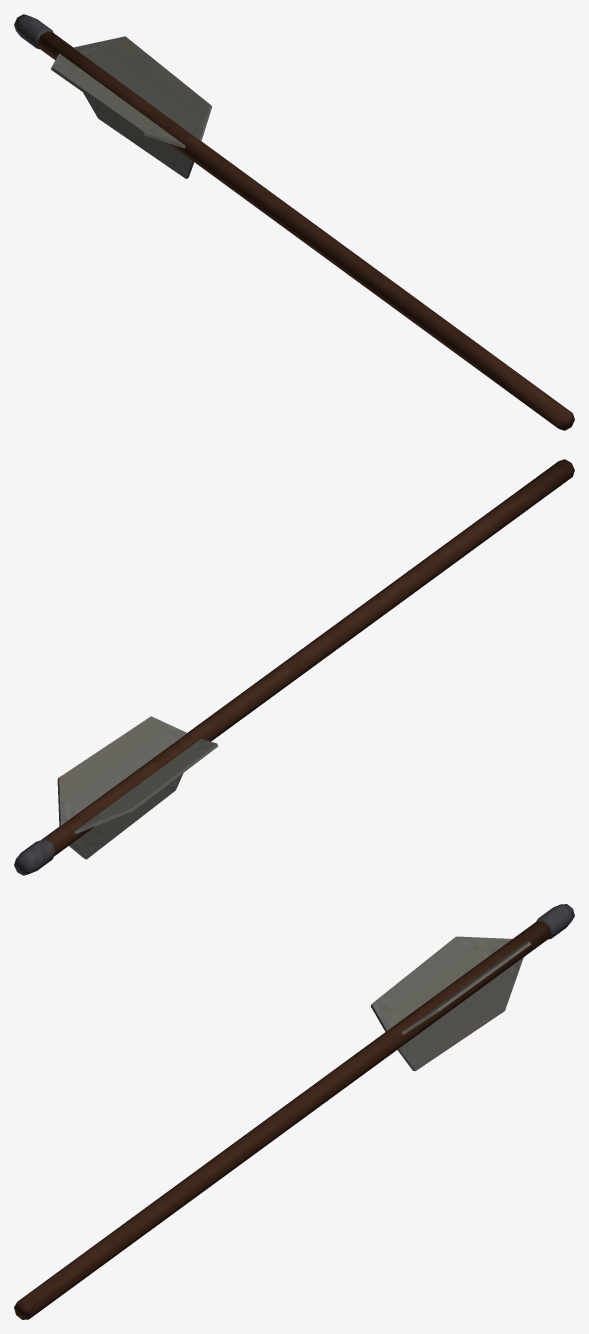
File: arrow_stuck_deep.glb
3 renders of one model, top to bottom at view 1: azimuth 30°, elevation 25°; view 2: azimuth 150°, elevation 25°; view 3: azimuth 330°, elevation 25°, orthographic.
Visible parts, largest first — view 1: arrow_stuck_deep; view 2: arrow_stuck_deep; view 3: arrow_stuck_deep.
Boxes of the visible parts, left/top/right/bottom form: arrow_stuck_deep: left=14, top=14, right=574, bottom=430; arrow_stuck_deep: left=14, top=459, right=574, bottom=875; arrow_stuck_deep: left=14, top=904, right=574, bottom=1319.
Size of the model in its own units: 0.0348 by 0.033 by 0.429.
Materials: 1 (1 with a texture image).
